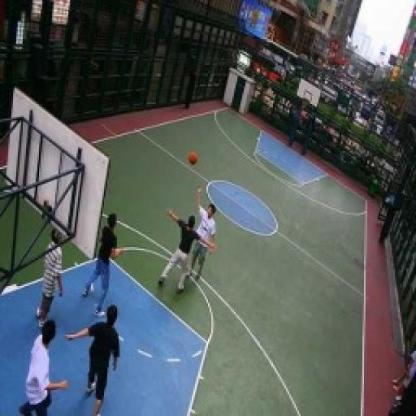basketball: (189, 148, 201, 166)
sports ball: (189, 151, 200, 165)
